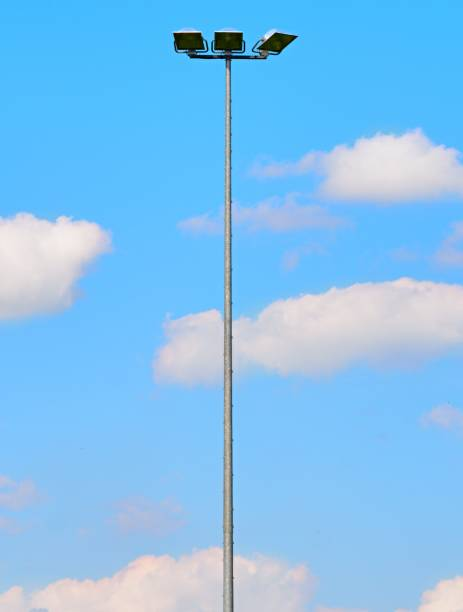light_pole: (222, 65, 236, 612)
